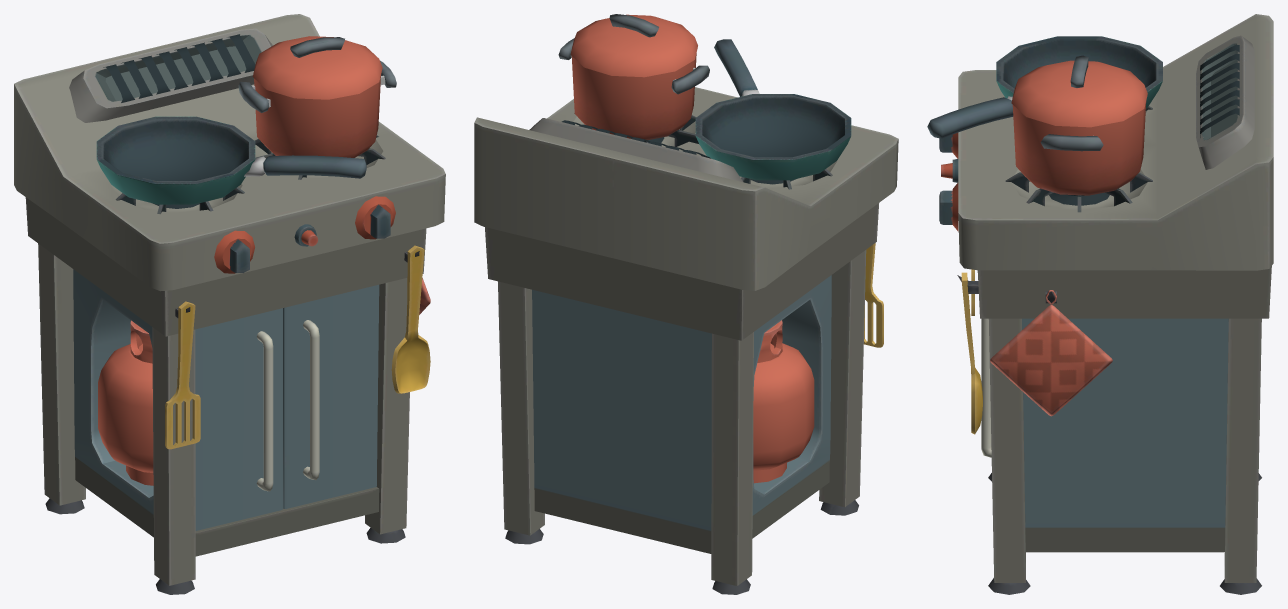
The model's file is GasStove.fbx.
3 renders of one model, left to right at view 1: azimuth 30°, elevation 25°; view 2: azimuth 150°, elevation 25°; view 3: azimuth 270°, elevation 25°, orthographic. The views are drawn at different scales.
Visible parts, largest first — view 1: SM_IndoorGasStove; view 2: SM_IndoorGasStove; view 3: SM_IndoorGasStove.
Boxes of the visible parts, x1,y1,x2,y2 form: SM_IndoorGasStove: (14,14,445,594); SM_IndoorGasStove: (474,14,898,594); SM_IndoorGasStove: (927,14,1273,594).
Size of the model in its own units: 96 by 150 by 93.5.
